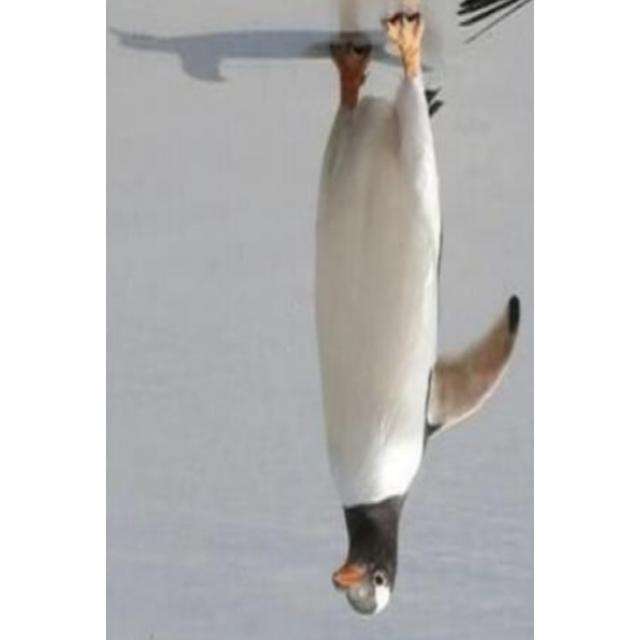penguin: (315, 12, 521, 616)
